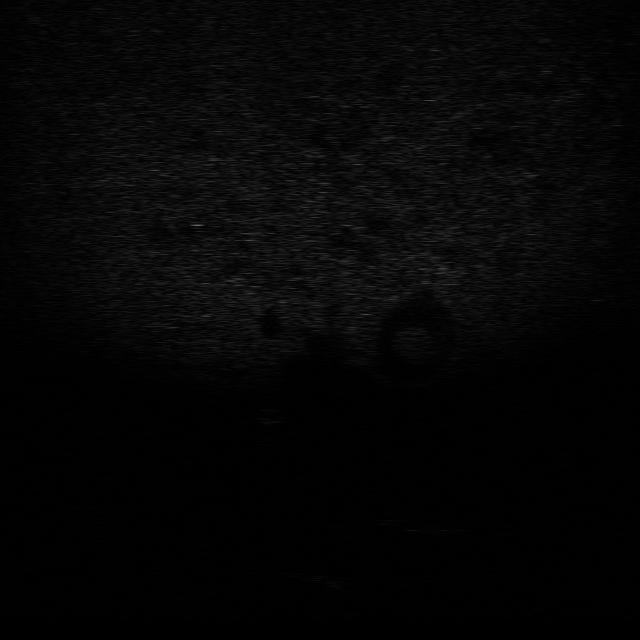ball: (250, 406, 291, 426)
metal bucket: (286, 568, 365, 592)
tyre: (372, 510, 468, 538)
